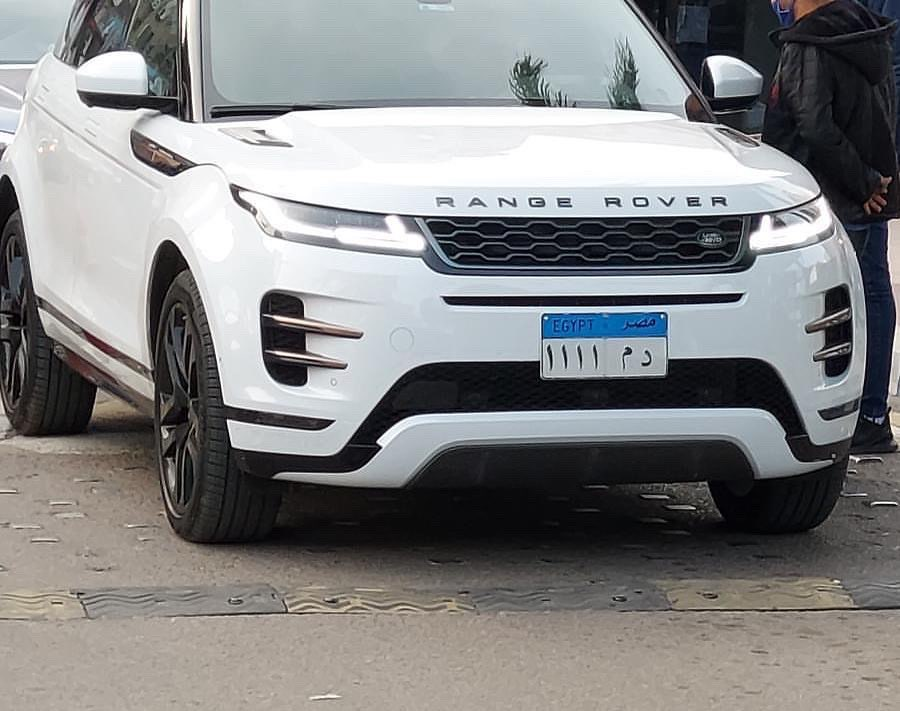carpl: (539, 327, 669, 375)
